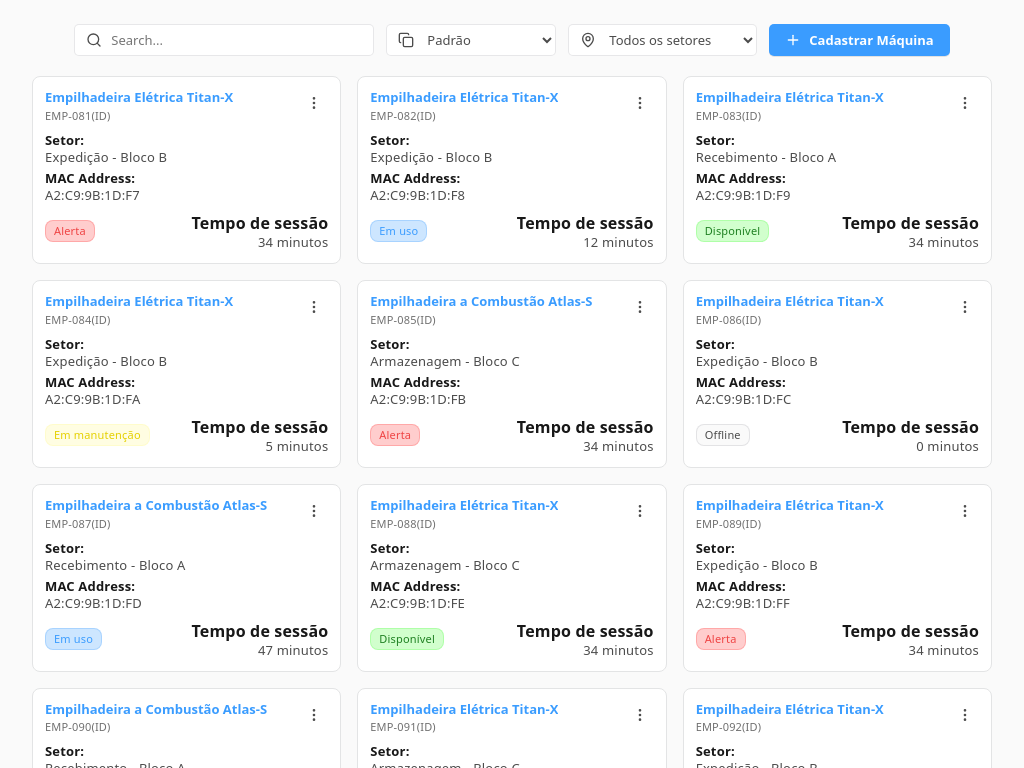
it: VisaoGeralPage › shows the empty state message when search + filter match nothing
Type "inexistente-xyz" into the search field with placeholder "Search...".
click(224, 40); type("inexistente-xyz")  # box [74,24,374,56]
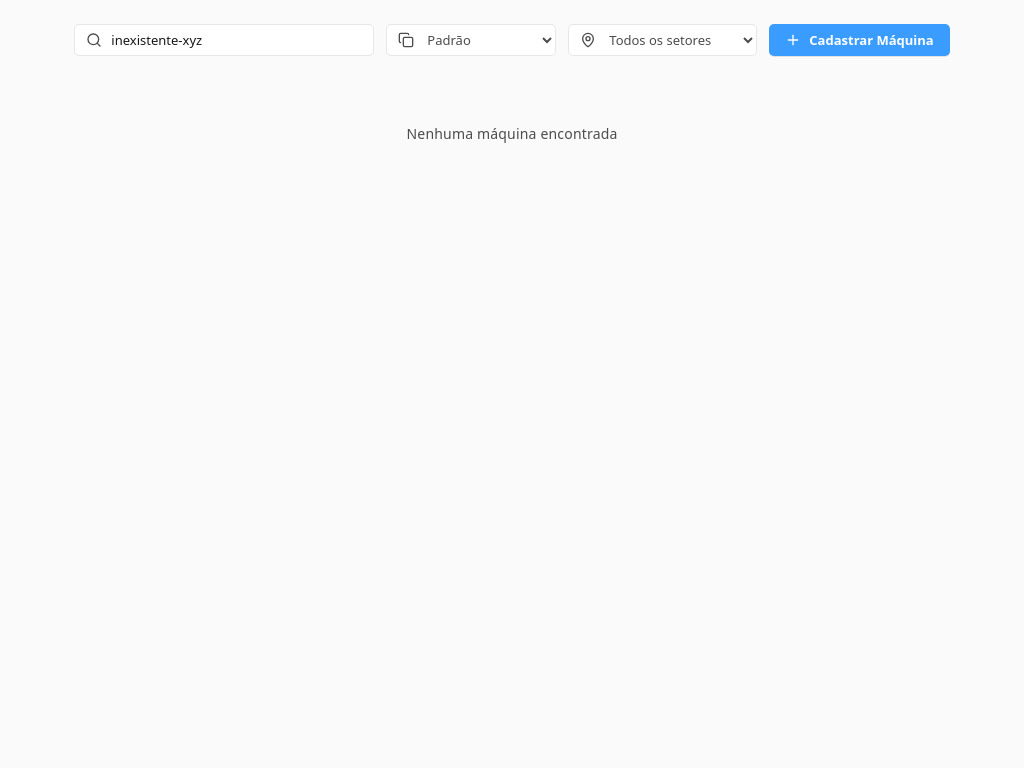
Now the text "Nenhuma máquina encontrada" is shown, box [406,124,618,143]
